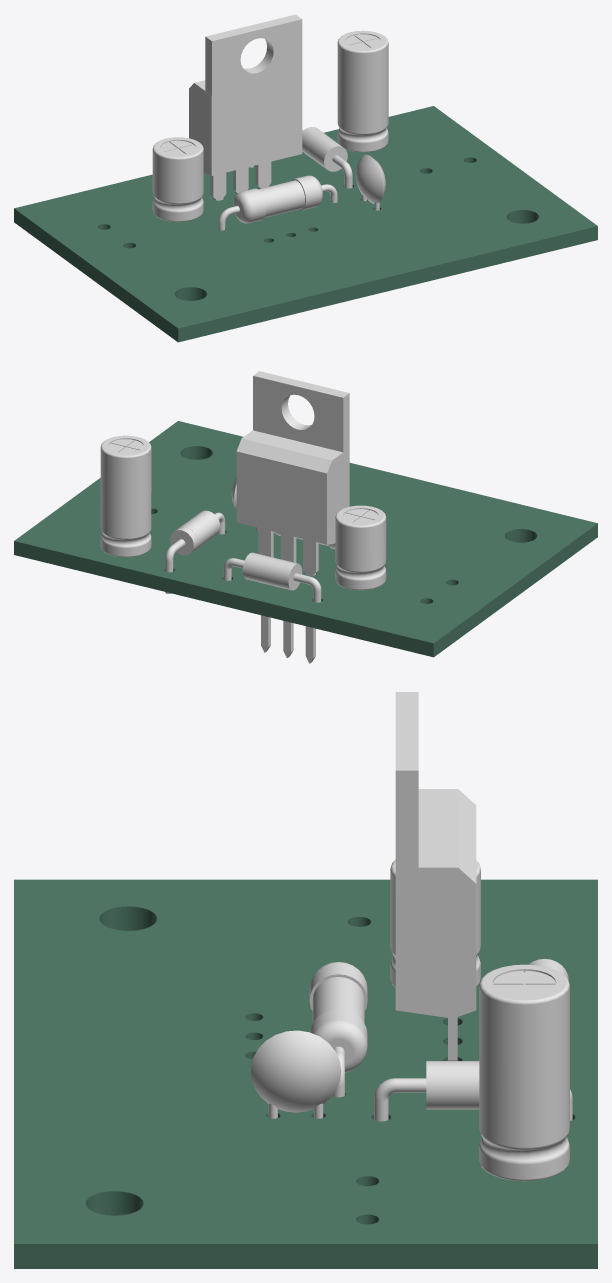
File: power_supply_linear_regulator_365nm.glb
The picture shows the model from 3 angles, top to bottom: view 1: azimuth 30°, elevation 25°; view 2: azimuth 150°, elevation 25°; view 3: azimuth 270°, elevation 25°; orthographic projection. The views are drawn at different scales.
Parts seen in each view (by area): view 1: =>[0:1:1:8], U1, C3, C1, R1, D2, C2; view 2: =>[0:1:1:8], U1, C3, C1, D1, D2; view 3: =>[0:1:1:8], U1, C3, C2, R1, D2, C1.
Boxes of the visible parts, box(x1,y1,x2,y2) form: =>[0:1:1:8]: box(14, 106, 597, 342); U1: box(189, 14, 302, 200); C3: box(337, 30, 388, 152); C1: box(152, 137, 203, 221); R1: box(218, 175, 337, 230); D2: box(302, 127, 352, 188); C2: box(355, 154, 385, 210); =>[0:1:1:8]: box(14, 421, 597, 657); U1: box(236, 371, 349, 663); C3: box(100, 435, 151, 557); C1: box(335, 505, 386, 590); D1: box(223, 552, 321, 602); D2: box(165, 510, 225, 593); =>[0:1:1:8]: box(14, 879, 597, 1268); U1: box(395, 692, 476, 1060); C3: box(479, 964, 569, 1181); C2: box(251, 1030, 341, 1118); R1: box(309, 962, 367, 1097); D2: box(374, 1061, 572, 1121); C1: box(390, 860, 480, 987).
Size of the model in its own units: 0.0475 by 0.0285 by 0.0322.
